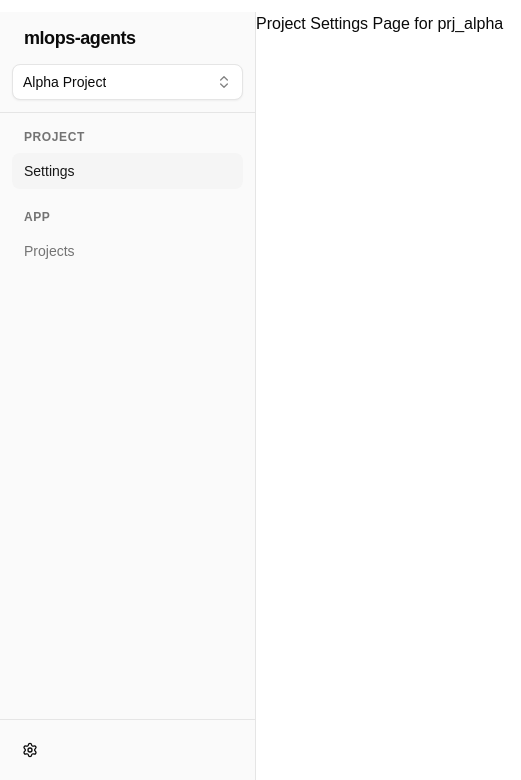
Scenario: ProjectSwitcher › shows open error alert in the dropdown when opening a project fails
Click the button "Alpha Project" at (128, 82), box x1=12 y1=64 x2=243 y2=100
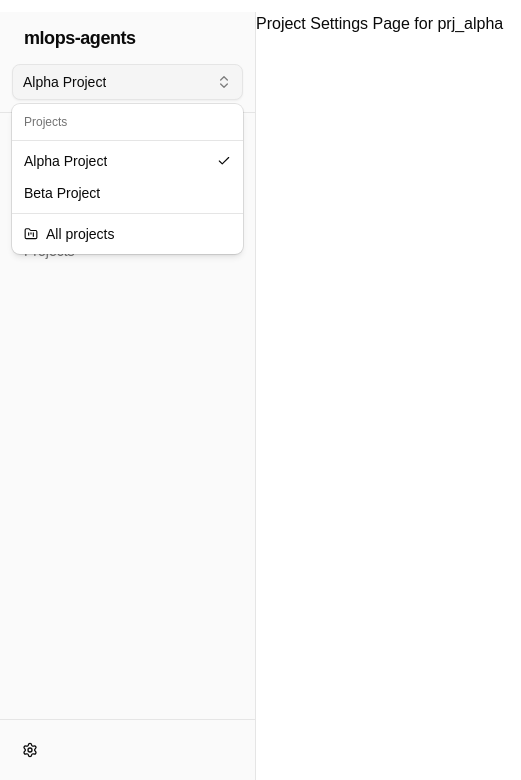
Click the menu item "Beta Project" at (62, 193), box x1=24 y1=185 x2=100 y2=201
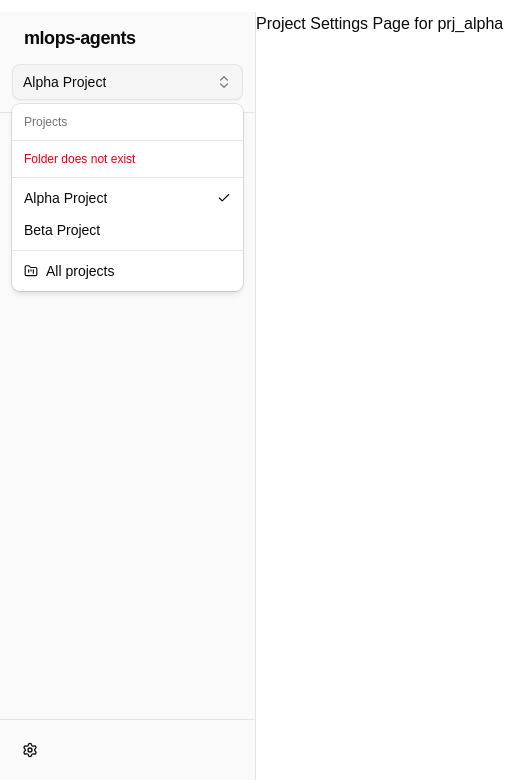
Expected: the message reads "Folder does not exist", x1=24 y1=152 x2=135 y2=166
